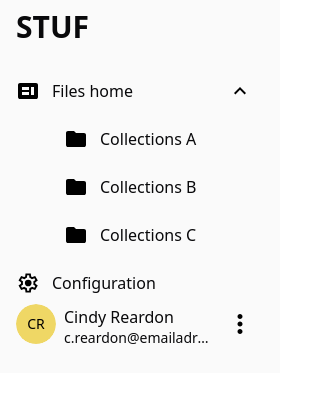
Test: Sidebar › shows logout option when menu is clicked
The image size is (320, 411).
Click the button with test id "sidebar-menu-trigger" at (240, 324), box [224,308,256,340]
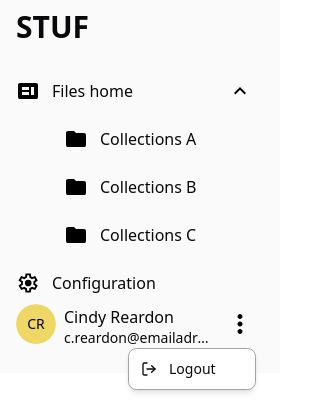
Expected: the text "Logout" is shown, [169,359,216,379]
